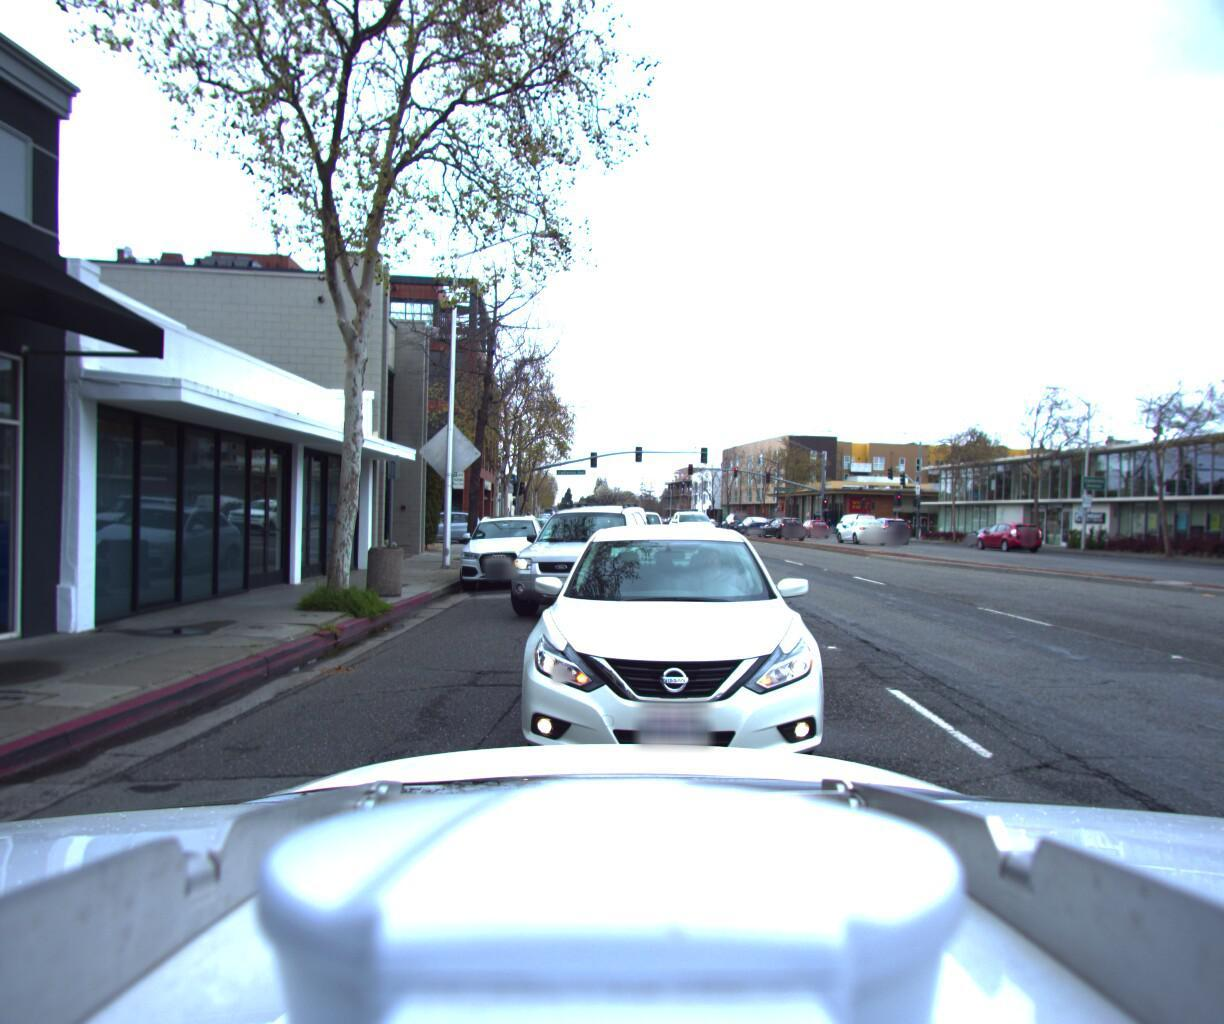car: (487, 516, 857, 809), (485, 505, 662, 635), (456, 509, 554, 595), (596, 514, 682, 579), (964, 530, 1035, 563), (668, 513, 720, 554), (832, 522, 888, 550), (859, 521, 911, 550), (756, 521, 807, 549), (835, 517, 880, 543), (719, 516, 755, 542), (735, 519, 776, 541), (797, 523, 833, 543)
